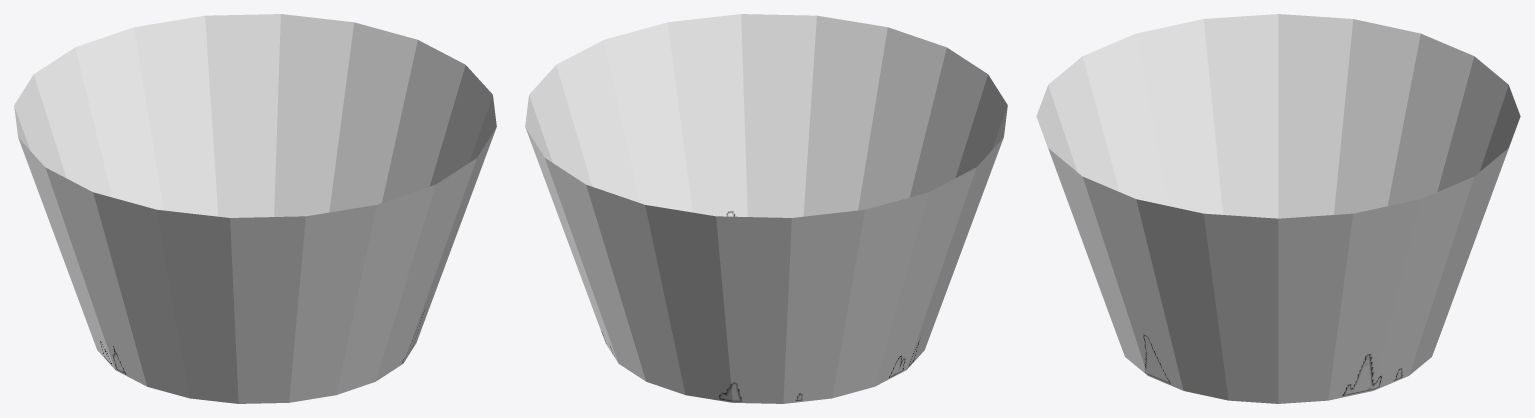
Rendered from Shockwave.fbx.
The picture shows the model from 3 angles, left to right: view 1: azimuth 30°, elevation 25°; view 2: azimuth 150°, elevation 25°; view 3: azimuth 270°, elevation 25°; orthographic projection.
Visible parts, largest first — view 1: 円; view 2: 円; view 3: 円.
Part boxes in pixels (<box>): 円: <box>14,14,496,403</box>; 円: <box>525,14,1007,403</box>; 円: <box>1036,14,1520,403</box>.
Size of the model in its own units: 300 by 150 by 300.
